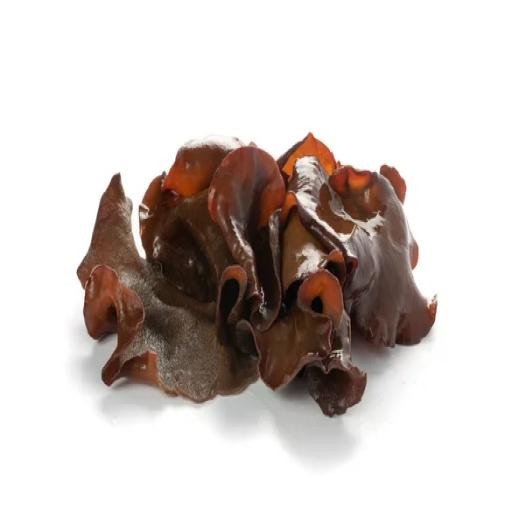Wood Ear Mushroom: (73, 134, 447, 423)
